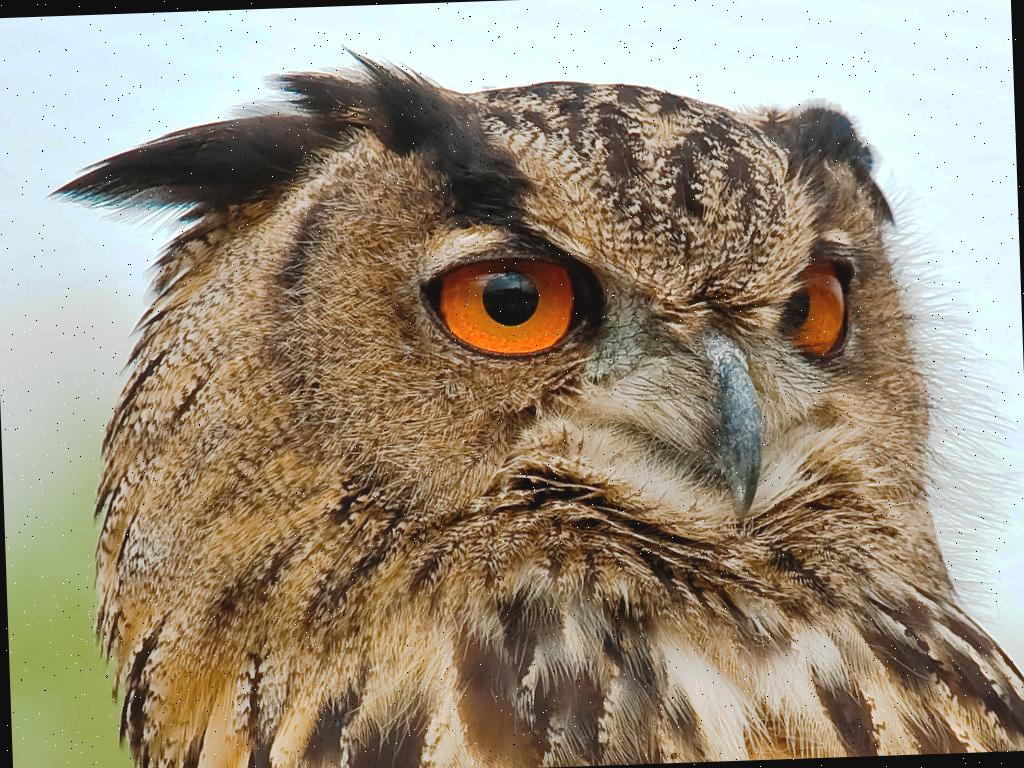Owl: (28, 12, 1024, 768)
